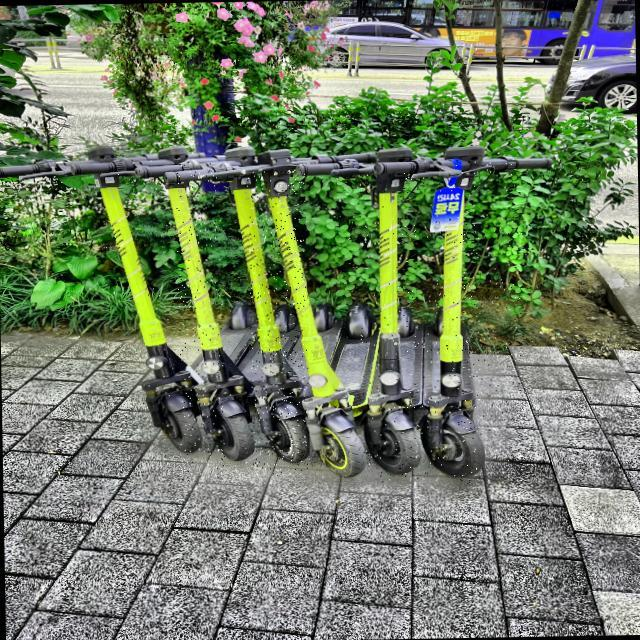bike: (1, 142, 553, 478)
car: (310, 21, 475, 70), (516, 52, 638, 117), (555, 52, 638, 114)
